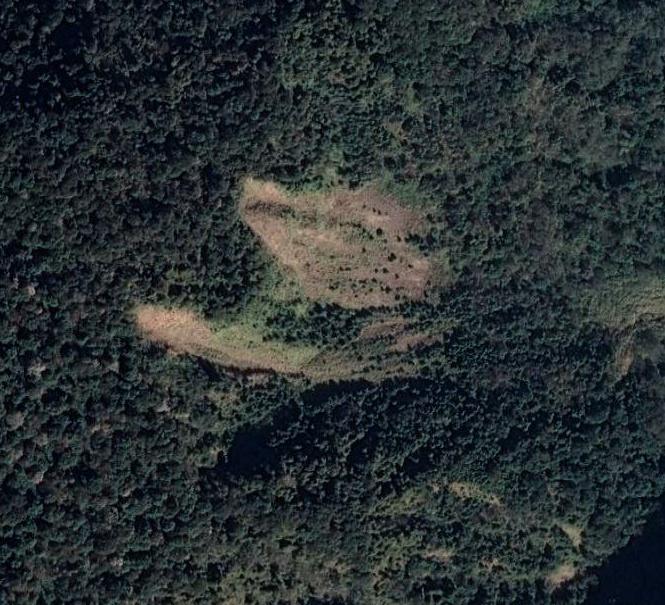slope: (233, 173, 455, 313), (128, 296, 399, 388)
